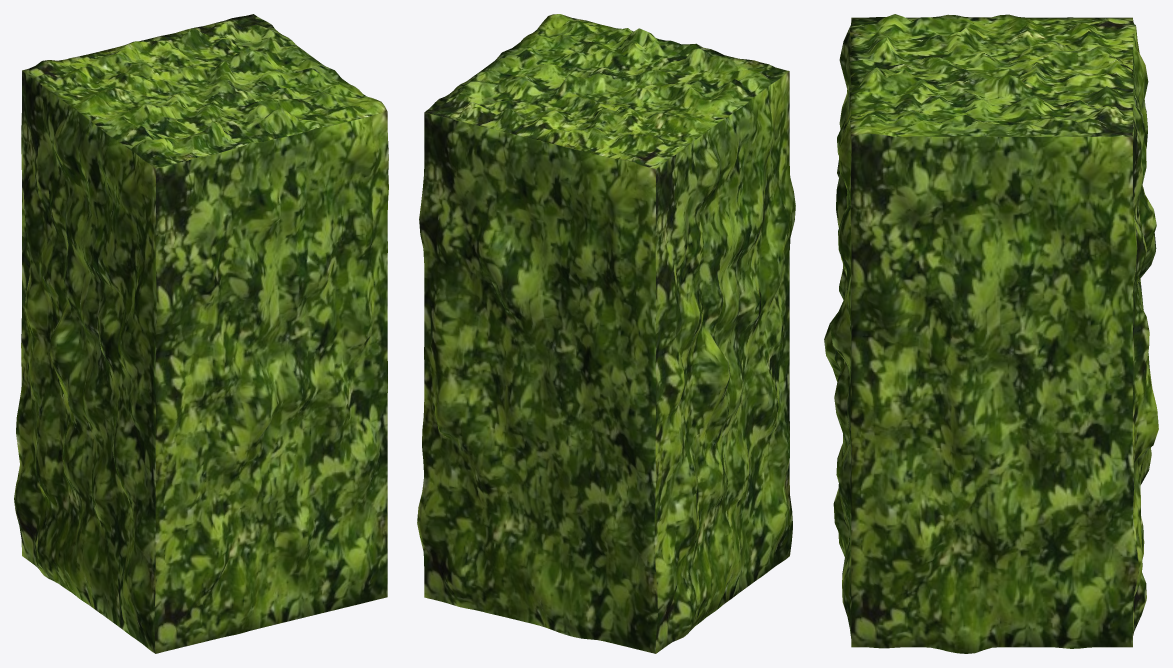
3 renders of one model, left to right at view 1: azimuth 30°, elevation 25°; view 2: azimuth 150°, elevation 25°; view 3: azimuth 270°, elevation 25°, orthographic. The views are drawn at different scales.
Parts seen in each view (by area): view 1: Cube; view 2: Cube; view 3: Cube.
Boxes of the visible parts, x1,y1,x2,y2 form: Cube: [14, 14, 388, 653]; Cube: [417, 14, 795, 653]; Cube: [824, 14, 1158, 653].
Size of the model in its own units: 0.0236 by 0.0417 by 0.0238.
1 material, 1 textured.
